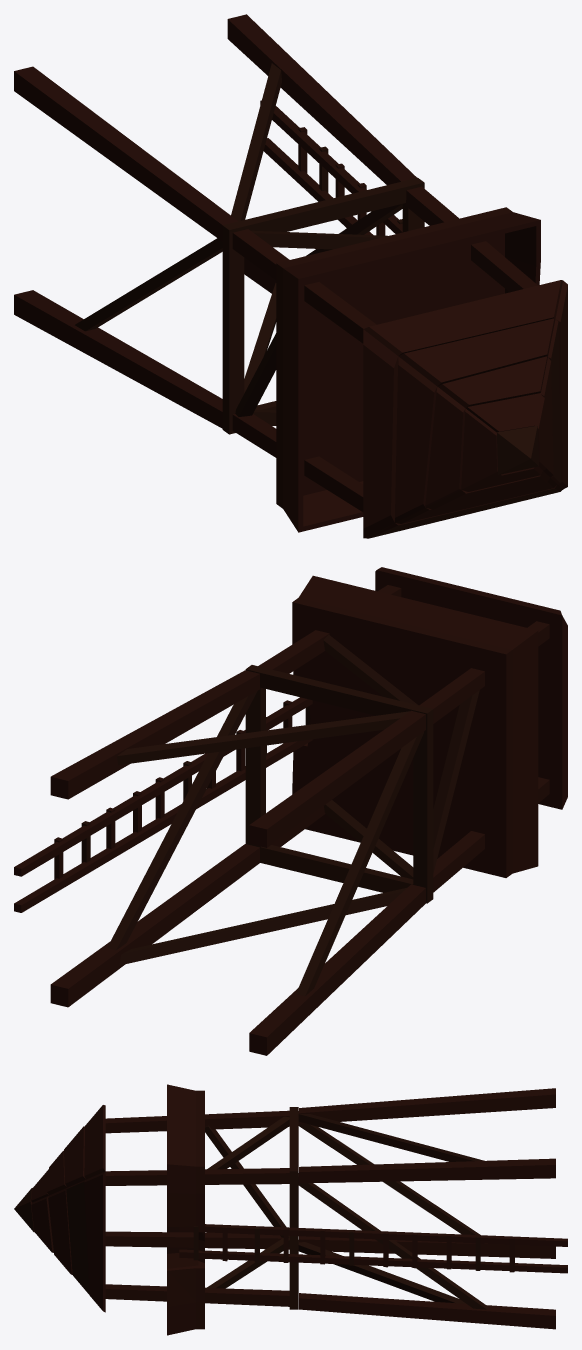
File: tour.obj
3 views of the same model, one above another, from view 1: azimuth 30°, elevation 25°; view 2: azimuth 150°, elevation 25°; view 3: azimuth 270°, elevation 25° (orthographic). The views are drawn at different scales.
Parts seen in each view (by area): view 1: Cube.050_Cube.067, Cube.030_Cube.041, Cube.027_Cube.038, Cube.028_Cube.039, Cube.029_Cube.040, Cube.031_Cube.043, Cube.044_Cube.057, Cube.045_Cube.058, Cube.048_Cube.065, Cube.049_Cube.066, Cube.046_Cube.059, Cube.043_Cube.056; view 2: Cube.030_Cube.041, Cube.027_Cube.038, Cube.029_Cube.040, Cube.050_Cube.067, Cube.031_Cube.043, Cube.028_Cube.039, Cube.045_Cube.058, Cube.044_Cube.057, Cube.043_Cube.056, Cube.046_Cube.059, Cube.049_Cube.066, Cube.048_Cube.065 (+1 smaller); view 3: Cube.027_Cube.038, Cube.050_Cube.067, Cube.028_Cube.039, Cube.030_Cube.041, Cube.031_Cube.043, Cube.043_Cube.056, Cube.045_Cube.058, Cube.029_Cube.040, Cube.044_Cube.057, Cube.046_Cube.059, Cube.049_Cube.066, Cube.048_Cube.065 (+1 smaller).
Part boxes in pixels (left/top/right/bottom): Cube.050_Cube.067: left=363, top=280, right=567, bottom=538; Cube.030_Cube.041: left=276, top=207, right=540, bottom=532; Cube.027_Cube.038: left=14, top=14, right=416, bottom=428; Cube.028_Cube.039: left=232, top=186, right=537, bottom=511; Cube.029_Cube.040: left=222, top=177, right=424, bottom=434; Cube.031_Cube.043: left=260, top=100, right=402, bottom=235; Cube.044_Cube.057: left=75, top=238, right=222, bottom=331; Cube.045_Cube.058: left=231, top=63, right=281, bottom=221; Cube.048_Cube.065: left=251, top=230, right=387, bottom=249; Cube.049_Cube.066: left=235, top=333, right=276, bottom=416; Cube.046_Cube.059: left=244, top=283, right=276, bottom=392; Cube.043_Cube.056: left=306, top=204, right=402, bottom=255; Cube.030_Cube.041: left=292, top=575, right=538, bottom=877; Cube.027_Cube.038: left=50, top=670, right=425, bottom=1055; Cube.029_Cube.040: left=245, top=665, right=433, bottom=903; Cube.050_Cube.067: left=375, top=567, right=567, bottom=809; Cube.031_Cube.043: left=14, top=697, right=312, bottom=912; Cube.028_Cube.039: left=258, top=585, right=549, bottom=892; Cube.045_Cube.058: left=117, top=711, right=409, bottom=765; Cube.044_Cube.057: left=296, top=731, right=423, bottom=996; Cube.043_Cube.056: left=107, top=691, right=257, bottom=950; Cube.046_Cube.059: left=119, top=888, right=406, bottom=965; Cube.049_Cube.066: left=433, top=690, right=479, bottom=873; Cube.048_Cube.065: left=323, top=635, right=417, bottom=704; Cube.027_Cube.038: left=299, top=1088, right=555, bottom=1329; Cube.050_Cube.067: left=14, top=1105, right=105, bottom=1312; Cube.028_Cube.039: left=105, top=1110, right=289, bottom=1306; Cube.030_Cube.041: left=167, top=1084, right=204, bottom=1335; Cube.031_Cube.043: left=179, top=1224, right=567, bottom=1273; Cube.043_Cube.056: left=298, top=1173, right=487, bottom=1309; Cube.045_Cube.058: left=298, top=1111, right=484, bottom=1161; Cube.029_Cube.040: left=289, top=1107, right=298, bottom=1309; Cube.044_Cube.057: left=298, top=1122, right=480, bottom=1235; Cube.046_Cube.059: left=298, top=1240, right=465, bottom=1303; Cube.049_Cube.066: left=205, top=1125, right=289, bottom=1237; Cube.048_Cube.065: left=207, top=1116, right=289, bottom=1169.
Size of the model in its own units: 0.8744 by 0.7941 by 2.33.
